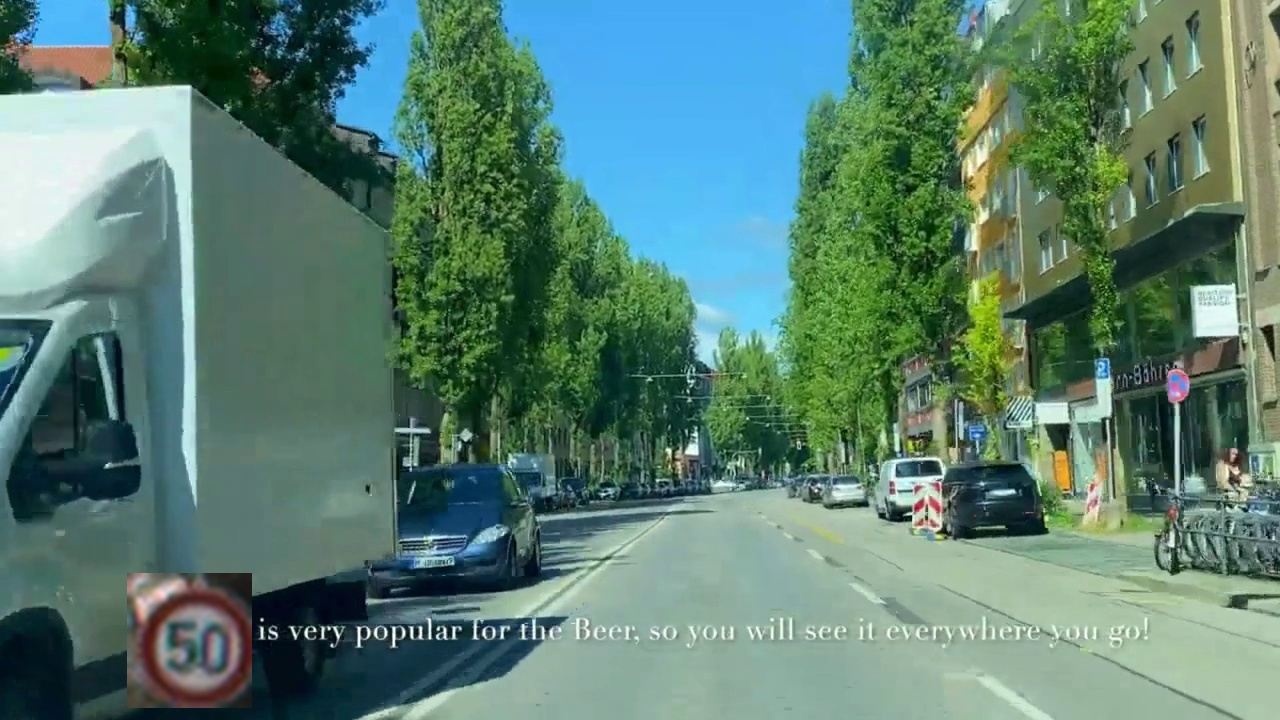Speed 50: (127, 573, 252, 708)
